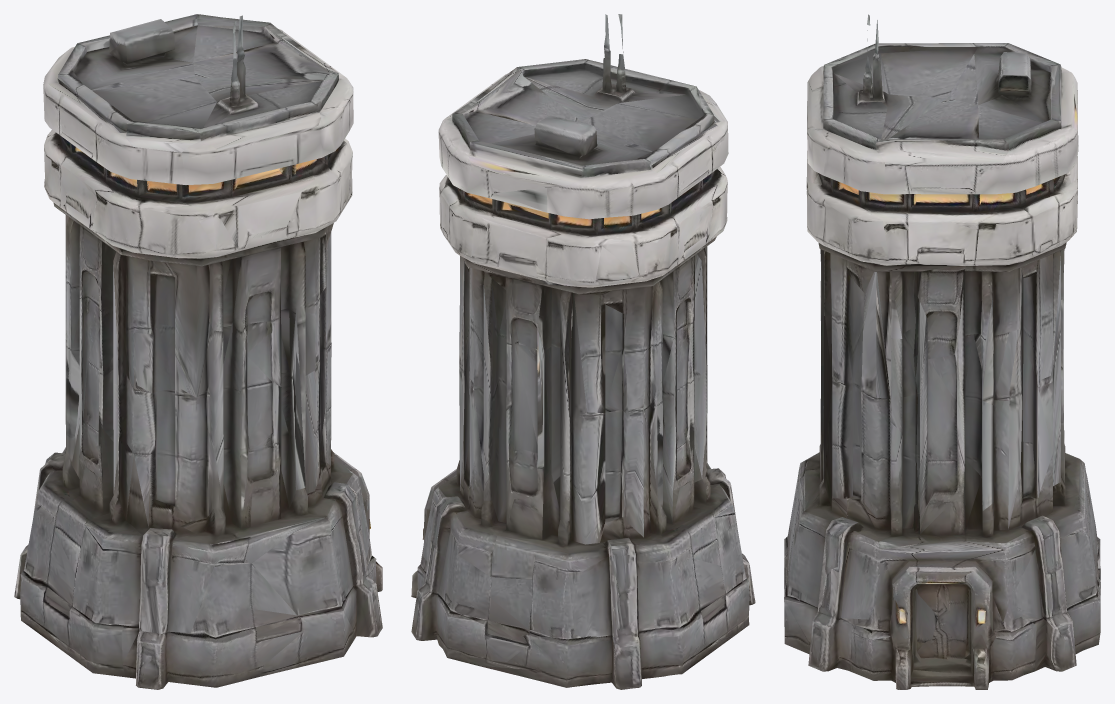
File: guardTower.glb
3 renders of one model, left to right at view 1: azimuth 30°, elevation 25°; view 2: azimuth 150°, elevation 25°; view 3: azimuth 270°, elevation 25°, orthographic. The views are drawn at different scales.
Parts seen in each view (by area): view 1: guardTower; view 2: guardTower; view 3: guardTower.
Part boxes in pixels (left/top/right/bottom): guardTower: left=14, top=14, right=382, bottom=689; guardTower: left=411, top=14, right=755, bottom=689; guardTower: left=784, top=14, right=1100, bottom=689.
Bounding box in the file's own units: 8.72 × 17 × 8.15.
1 material, 1 textured.
